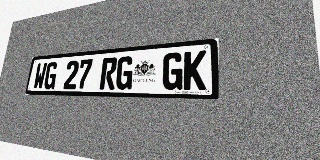2: (63, 60, 80, 89)
7: (76, 59, 93, 89)
G: (162, 52, 184, 90), (115, 56, 134, 90), (43, 62, 58, 89)
K: (183, 50, 206, 90)
R: (99, 57, 118, 90)
W: (33, 63, 47, 89)
